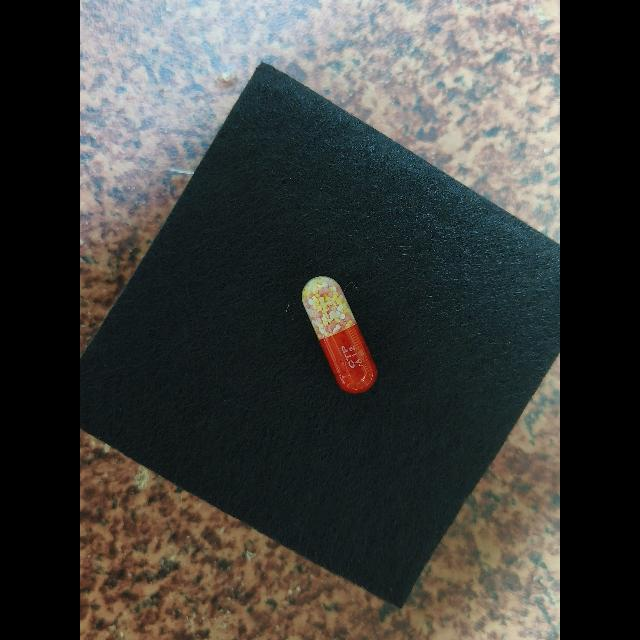Intact Capsule: (302, 276, 378, 393)
